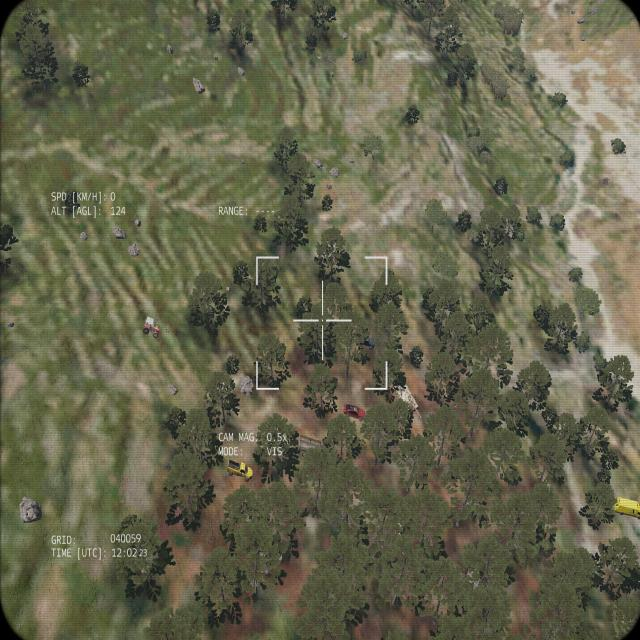car: (612, 487, 640, 526), (226, 457, 254, 484), (343, 398, 367, 423), (358, 329, 380, 352)
tank: (393, 382, 421, 418)
truck: (297, 433, 333, 464)
